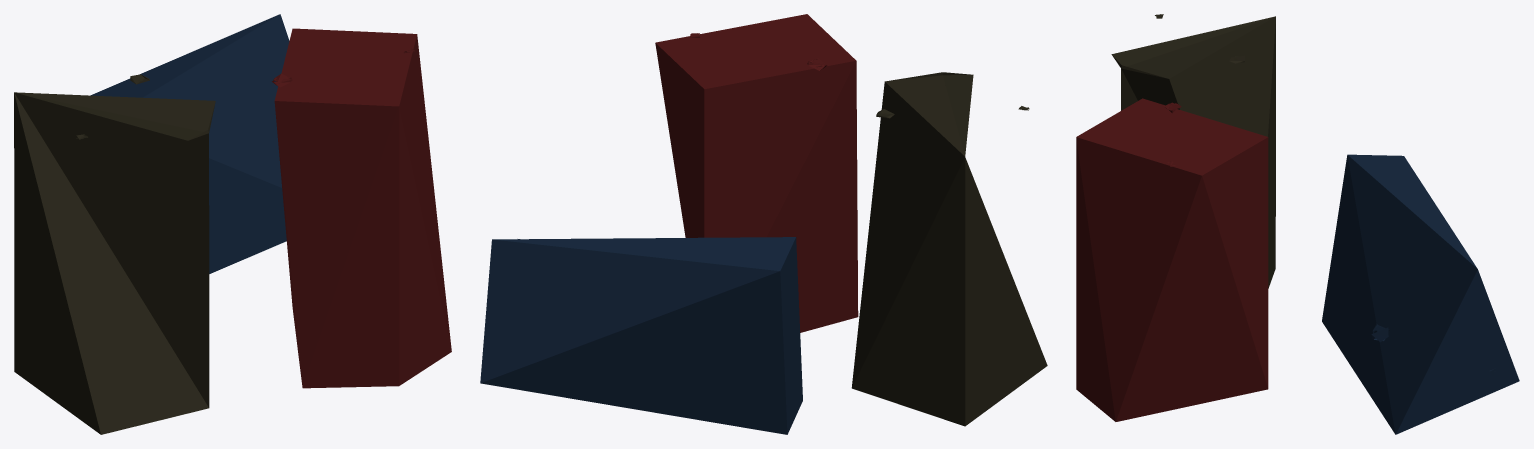
Rendered from oil-drums.lod2.glb.
The picture shows the model from 3 angles, left to right: view 1: azimuth 30°, elevation 25°; view 2: azimuth 150°, elevation 25°; view 3: azimuth 270°, elevation 25°; orthographic projection. The views are drawn at different scales.
Visible parts, largest first — view 1: Damaged_Drum_low_Mat_Oil_Drum_Damaged_0; view 2: Damaged_Drum_low_Mat_Oil_Drum_Damaged_0; view 3: Damaged_Drum_low_Mat_Oil_Drum_Damaged_0.
Part boxes in pixels (box(x1,y1,x2,y2)): Damaged_Drum_low_Mat_Oil_Drum_Damaged_0: box(14, 14, 451, 434); Damaged_Drum_low_Mat_Oil_Drum_Damaged_0: box(480, 14, 1047, 434); Damaged_Drum_low_Mat_Oil_Drum_Damaged_0: box(1076, 14, 1519, 434).
Size of the model in its own units: 1.63 by 1.07 by 1.68.
